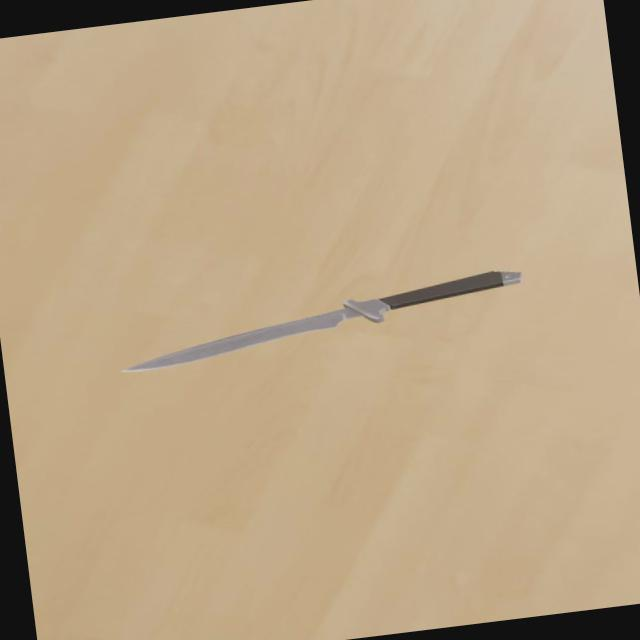knife: (376, 266, 523, 310)
